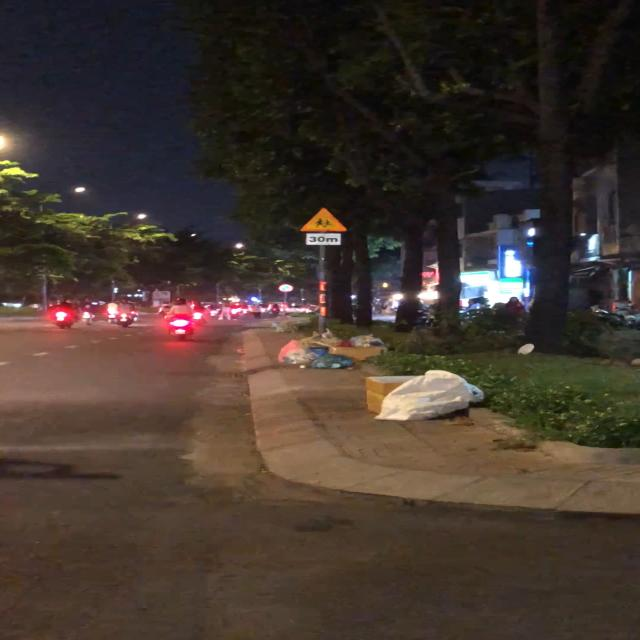Bien bao tre em: (296, 206, 347, 234)
